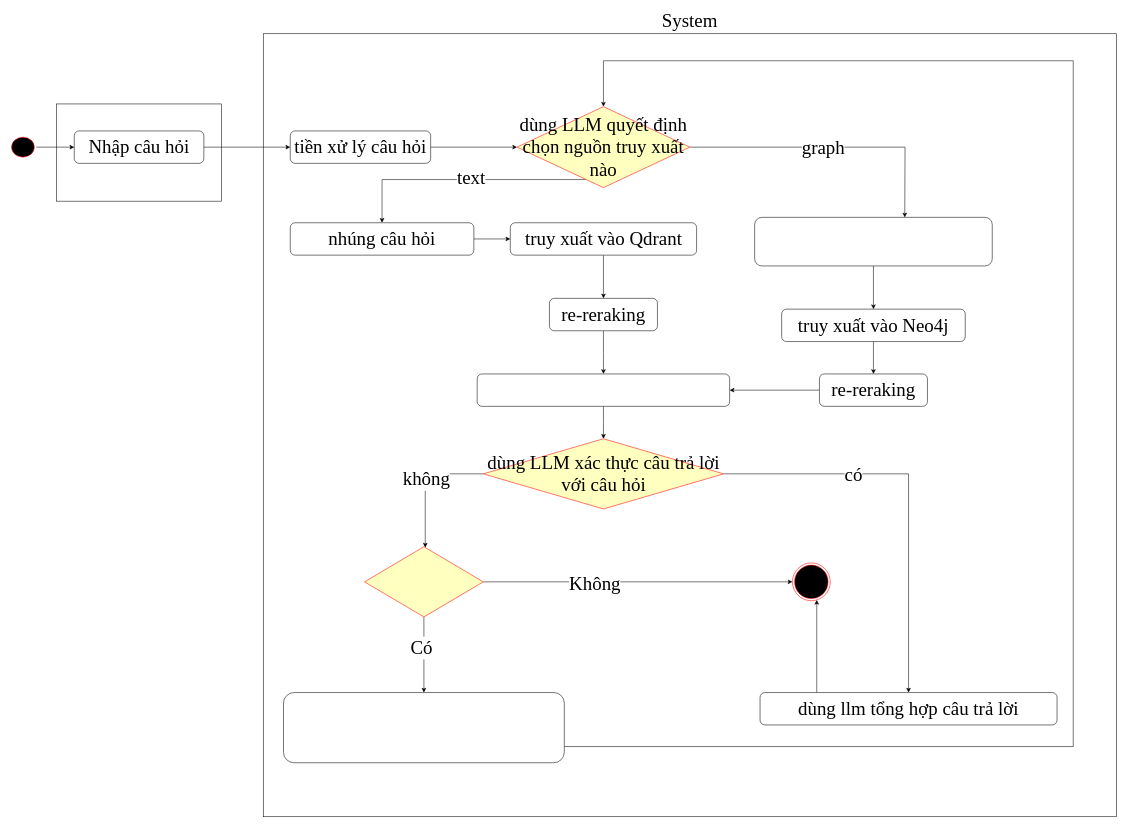
Some shapes in this 1126 by 826 pixel diagram are drawn without their labels. The shapes that lost their labels are listed below. From the top down, each one's box as (x1, y1, x2, y2) in pixels, then its label:
(56, 103, 221, 201): User
(754, 217, 992, 266): dùng LLM để dự đoán câu hỏi thuộc chương và phần nào
(477, 373, 730, 406): dùng LLM để trả lời câu hỏi
(364, 546, 483, 617): Còn số lần lặp
(283, 692, 564, 763): dùng LLM để phản hồi và sửa lỗi
